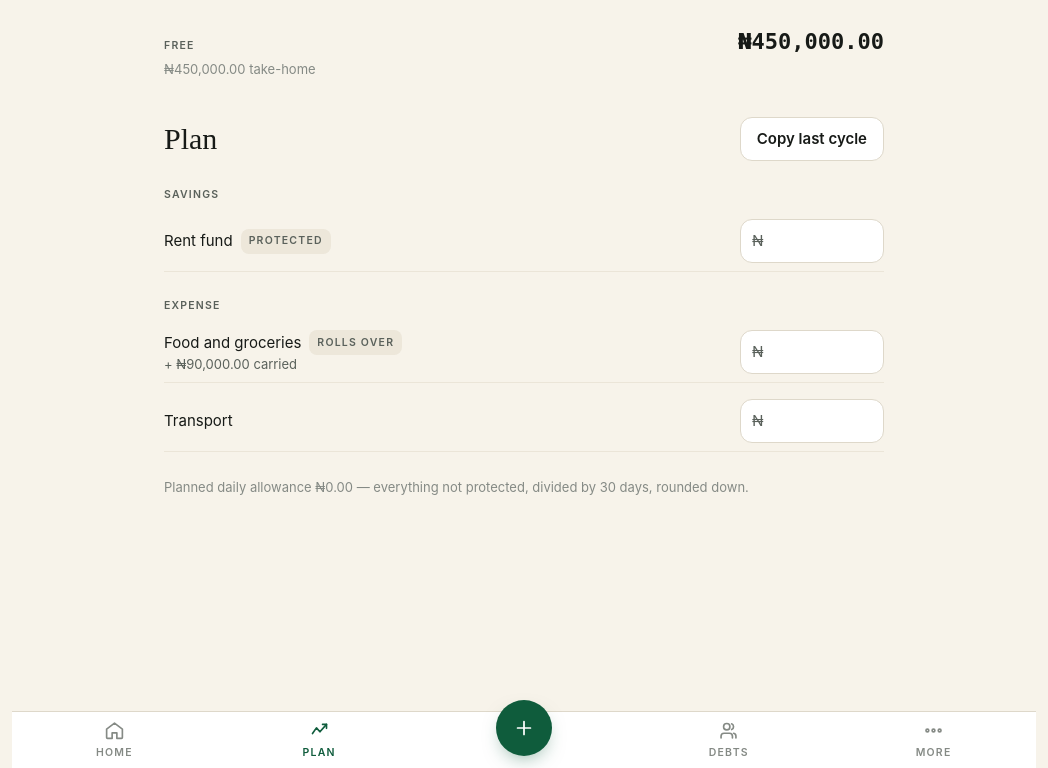
Test: copy last cycle › fills the empty rows from last cycle
Expected: the heading "Plan" is shown, [164, 121, 217, 157]
Click the button "Copy last cycle" at (812, 139), box [740, 117, 884, 161]
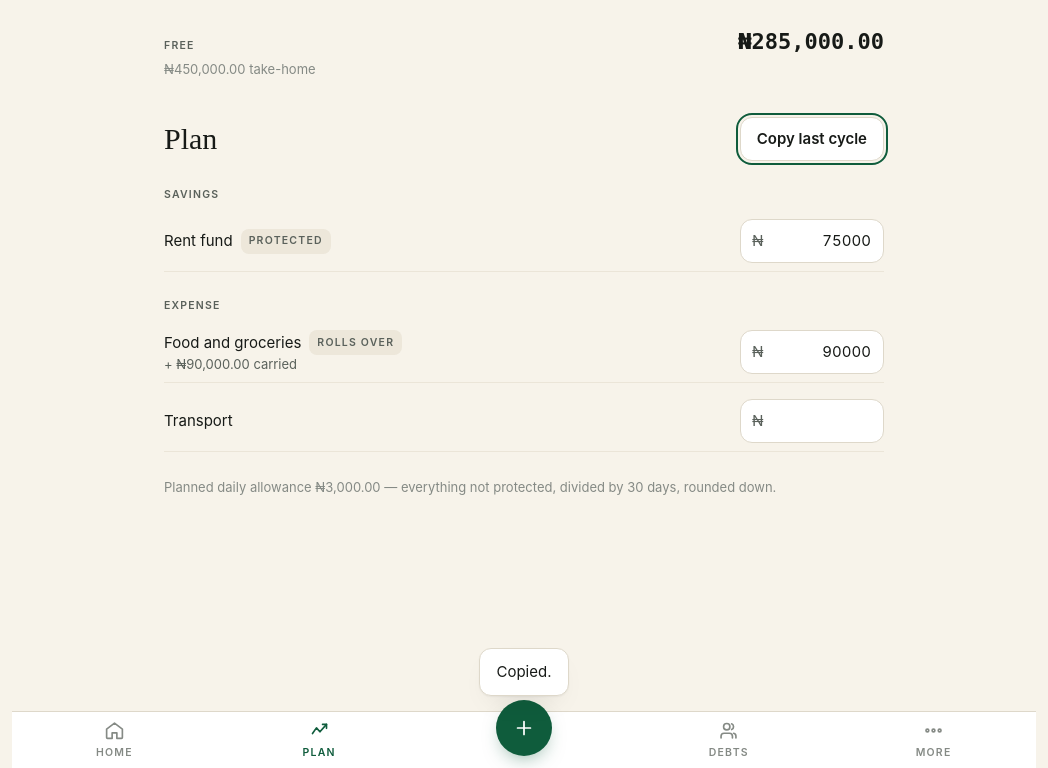
Result: the field named "Rent fund amount" in the row of "Rent fund" holds "75000" at [740, 219, 884, 263]
Result: the field named "Food and groceries amount" in the row of "Rolls over" holds "90000" at [740, 330, 884, 374]
